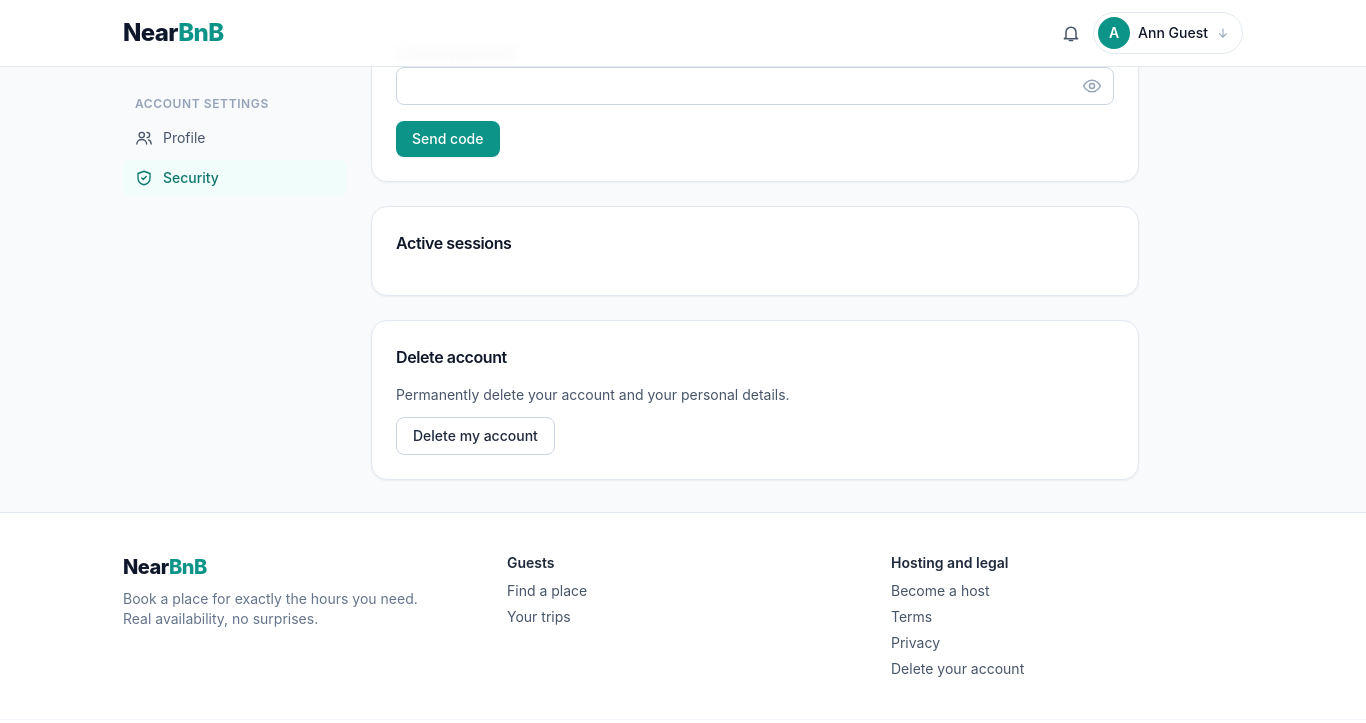
Test: deleting an account on the website › explains why when a booking in progress blocks it
(page scrolled)
Click the button "Delete my account" at (475, 436), box [396,417,555,455]
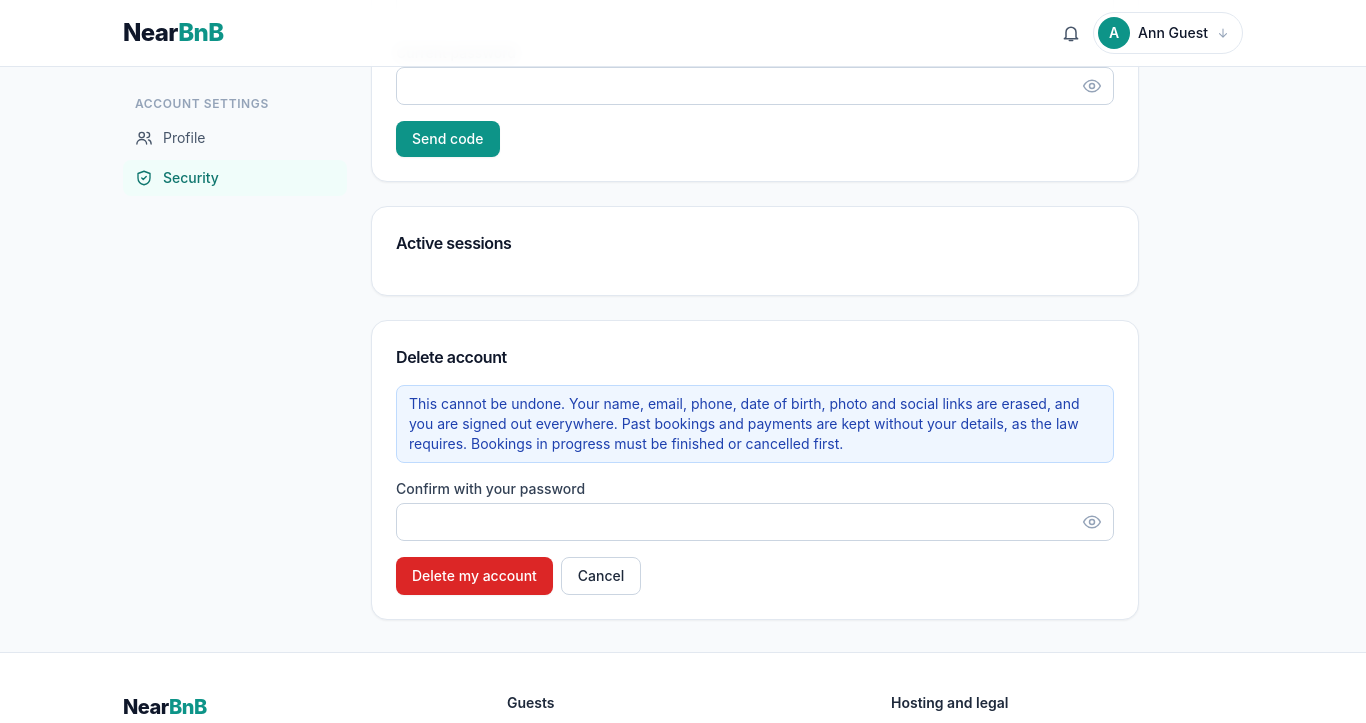
Type "my-password" into the password field labelled "Confirm with your password" at (755, 522), box [396,503,1114,541]
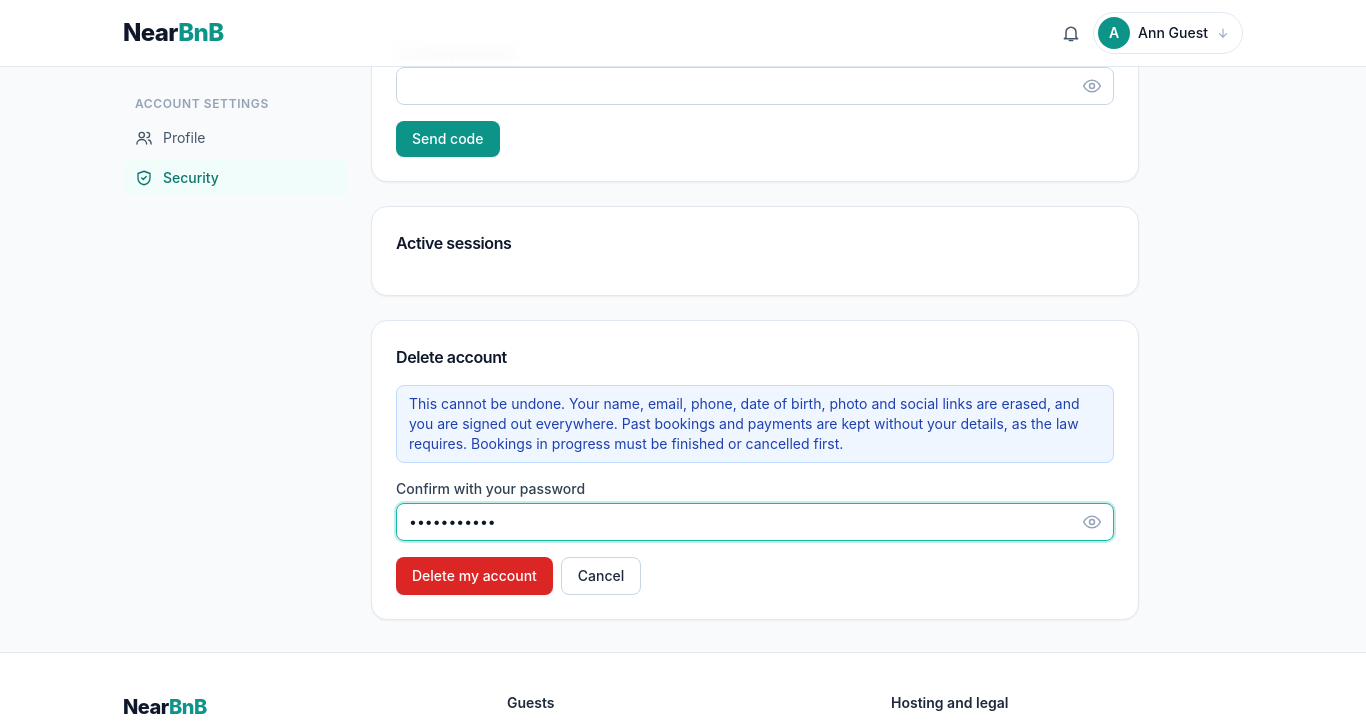
Click the button "Delete my account" at (474, 576), box [396,557,553,595]
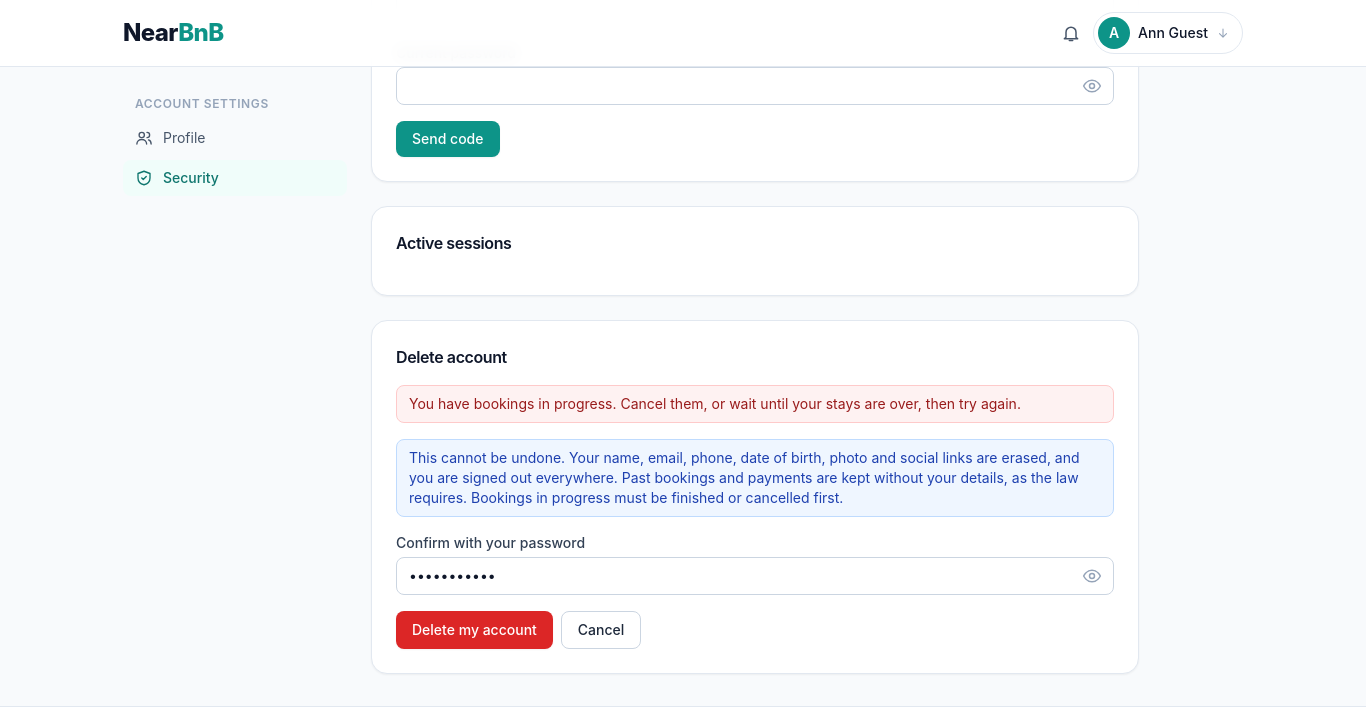
Expected: the text "You have bookings in progress" is shown, [409,395,1021,412]
